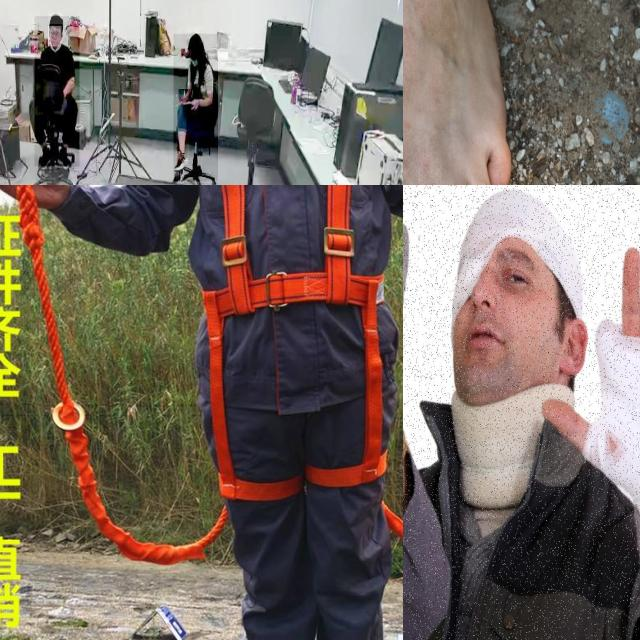Barefoots: (403, 0, 511, 185)
Harness: (189, 185, 400, 489)
face_nomask: (48, 26, 62, 47)
hand_noglove: (178, 89, 190, 102), (190, 97, 200, 111)
head_nohelmet: (447, 185, 592, 341), (188, 32, 204, 47), (49, 13, 63, 25)
person: (418, 185, 640, 640), (34, 16, 80, 167), (174, 34, 218, 182)
shoes: (55, 143, 73, 173), (172, 142, 188, 174)
